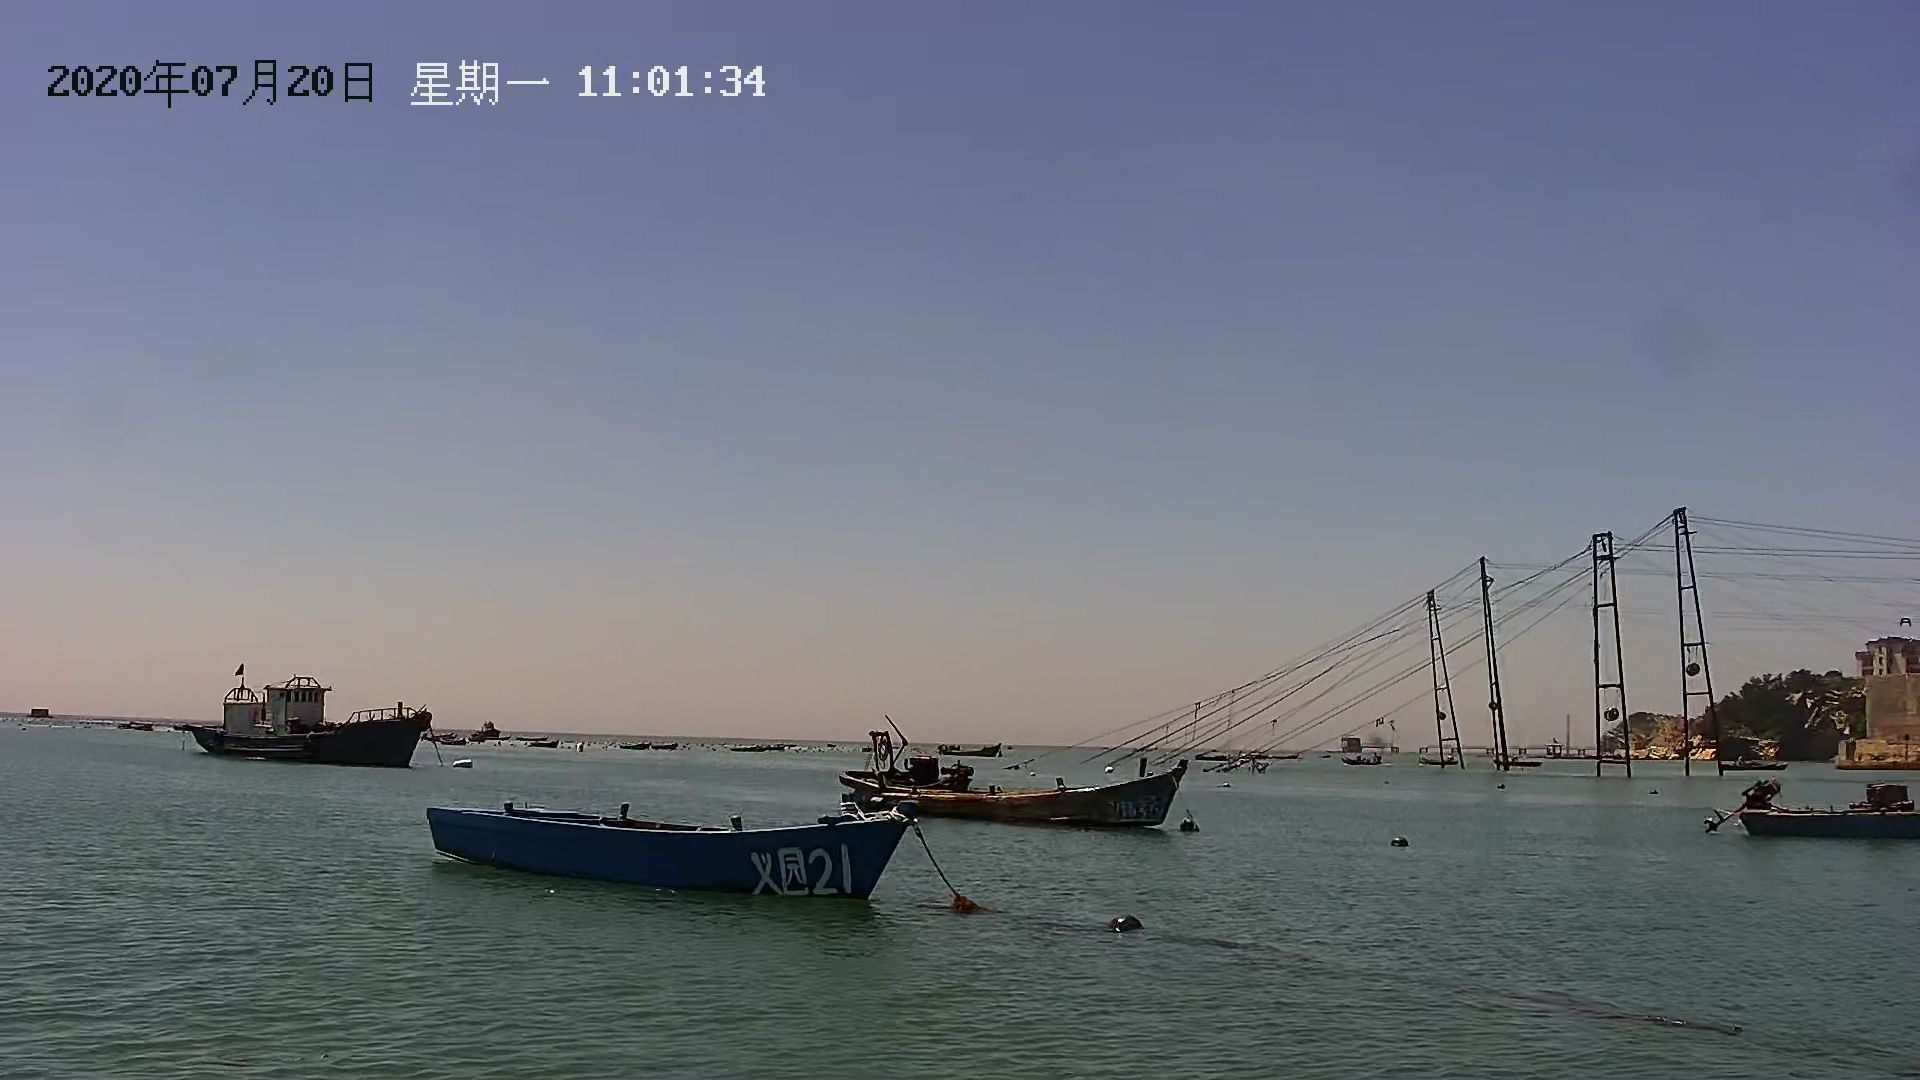ball: (1112, 911, 1149, 936), (1391, 832, 1416, 851)
boat: (419, 789, 915, 913), (843, 746, 1189, 832), (1741, 773, 1920, 837), (945, 745, 1005, 760)
mast: (1669, 512, 1733, 782), (1590, 526, 1635, 781), (1472, 545, 1516, 773), (1424, 591, 1468, 771)
ship: (186, 684, 433, 777)
